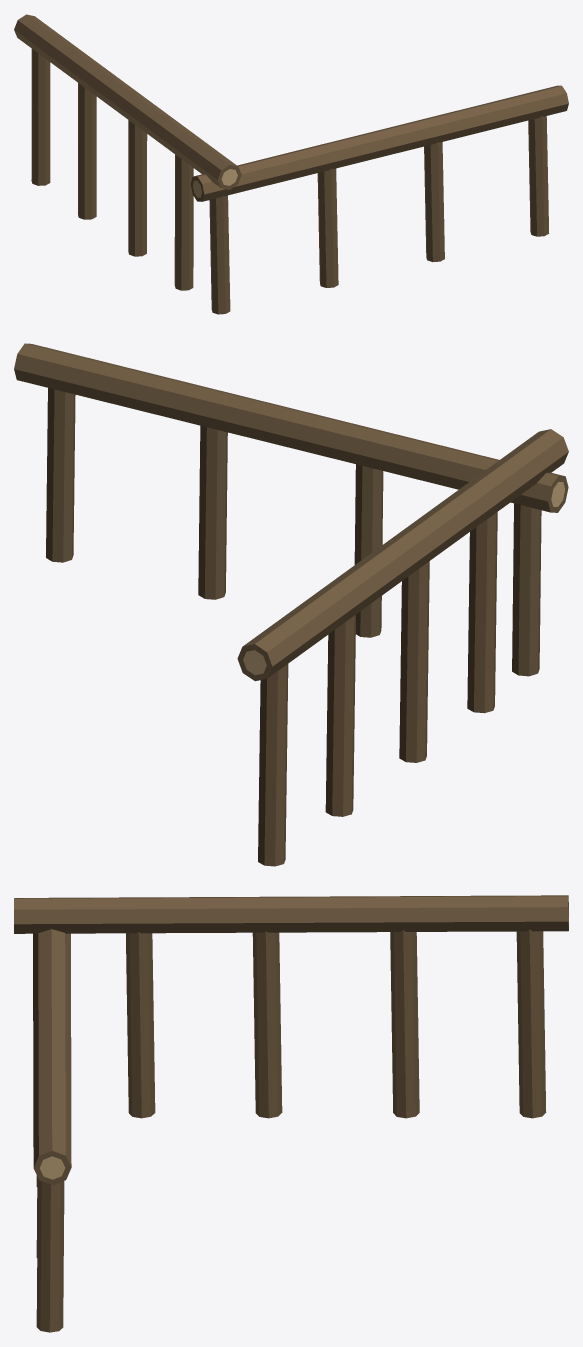
Rendered from rpgpp_ag_wall_platform_03_handrail_01c.fbx.
The picture shows the model from 3 angles, top to bottom: view 1: azimuth 30°, elevation 25°; view 2: azimuth 150°, elevation 25°; view 3: azimuth 270°, elevation 25°; orthographic projection. The views are drawn at different scales.
Visible parts, largest first — view 1: rpgpp_ag_wall_platform_03_handrail_01c; view 2: rpgpp_ag_wall_platform_03_handrail_01c; view 3: rpgpp_ag_wall_platform_03_handrail_01c.
Part boxes in pixels (x1=…): rpgpp_ag_wall_platform_03_handrail_01c: x1=14, y1=14, x2=568, y2=314; rpgpp_ag_wall_platform_03_handrail_01c: x1=14, y1=343, x2=568, y2=866; rpgpp_ag_wall_platform_03_handrail_01c: x1=14, y1=895, x2=568, y2=1332.
Bounding box in the file's own units: 2.48 × 1.03 × 2.39.
